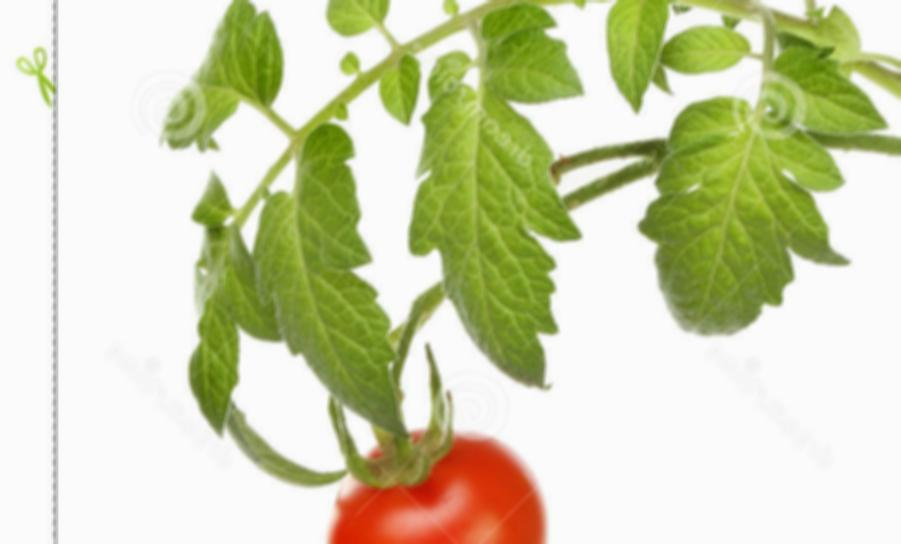Tomato leaf: (387, 0, 593, 407), (621, 65, 867, 386), (217, 64, 396, 504), (597, 0, 674, 120)
